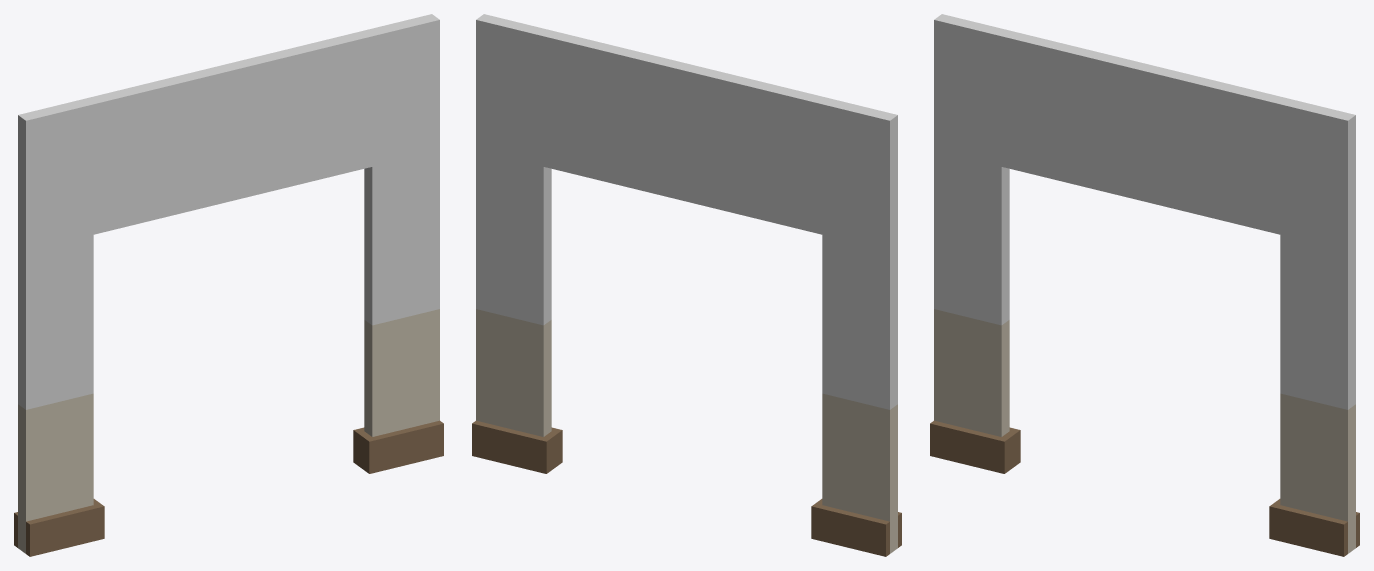
The model's file is Mesh_WallBaseboard2Colors_B5.fbx.
The picture shows the model from 3 angles, left to right: view 1: azimuth 30°, elevation 25°; view 2: azimuth 150°, elevation 25°; view 3: azimuth 330°, elevation 25°; orthographic projection.
Parts seen in each view (by area): view 1: Mesh_WallBaseboard2Colors_B5; view 2: Mesh_WallBaseboard2Colors_B5; view 3: Mesh_WallBaseboard2Colors_B5.
Boxes of the visible parts, box(x1,y1,x2,y2) form: Mesh_WallBaseboard2Colors_B5: box(14, 14, 443, 556); Mesh_WallBaseboard2Colors_B5: box(472, 14, 901, 556); Mesh_WallBaseboard2Colors_B5: box(930, 14, 1359, 556).
Bounding box in the file's own units: 3 × 3 × 0.2.
